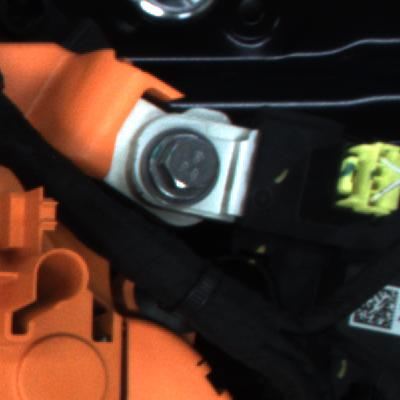nut_b: (142, 124, 238, 214)
